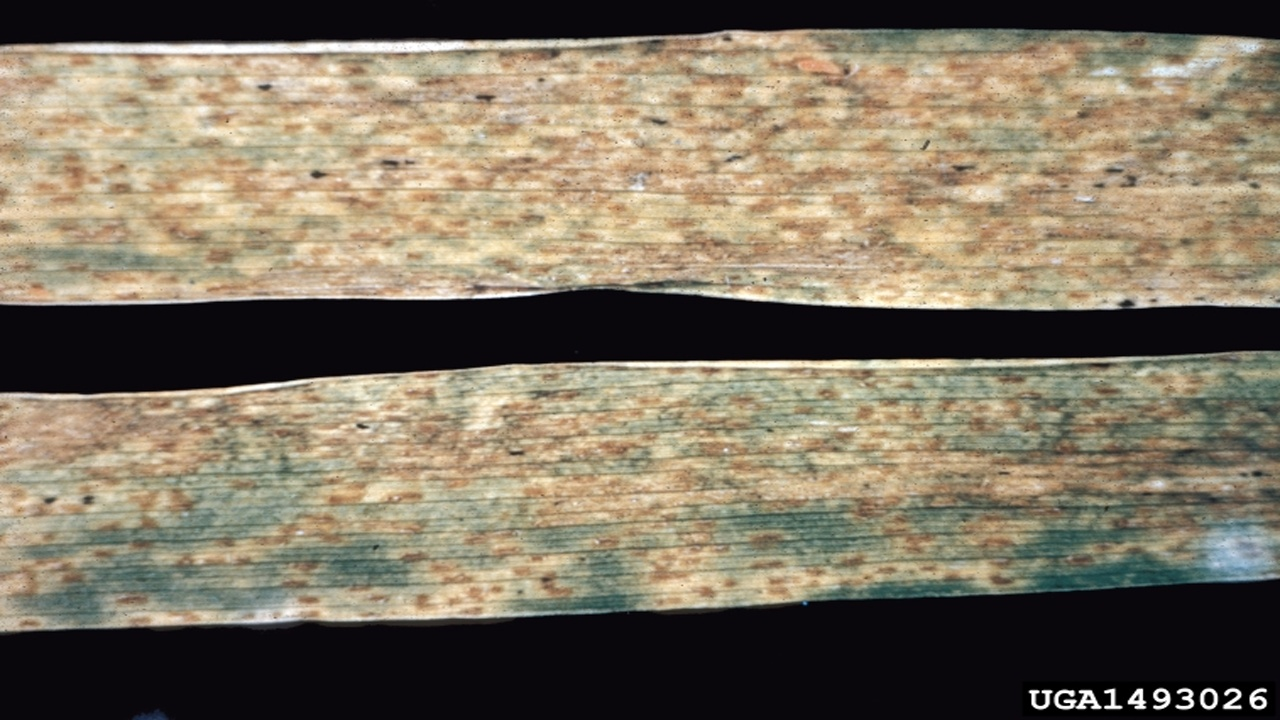leaf_rust: (1, 349, 1279, 633), (1, 32, 1279, 311)
